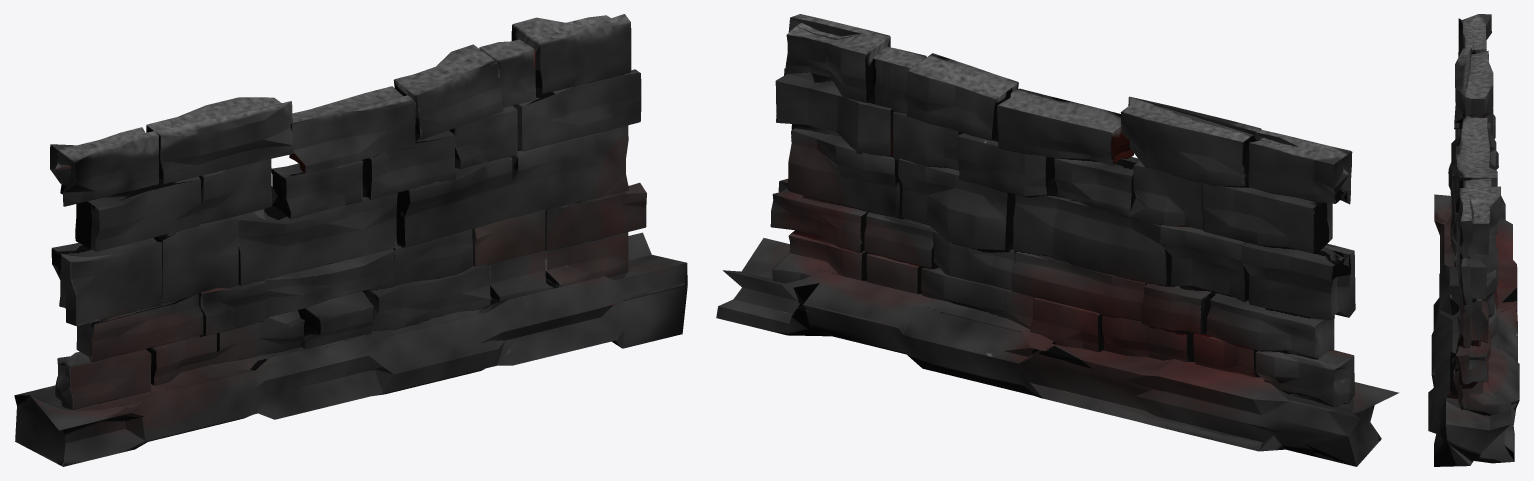
Rendered from Stone_Wall01.fbx.
3 renders of one model, left to right at view 1: azimuth 30°, elevation 25°; view 2: azimuth 150°, elevation 25°; view 3: azimuth 270°, elevation 25°, orthographic. The views are drawn at different scales.
Parts seen in each view (by area): view 1: StoneWall01; view 2: StoneWall01; view 3: StoneWall01.
Part boxes in pixels (x1=…): StoneWall01: x1=14, y1=14, x2=687, y2=466; StoneWall01: x1=716, y1=14, x2=1399, y2=466; StoneWall01: x1=1428, y1=14, x2=1519, y2=466.
Bounding box in the file's own units: 287 × 131 × 46.23.
